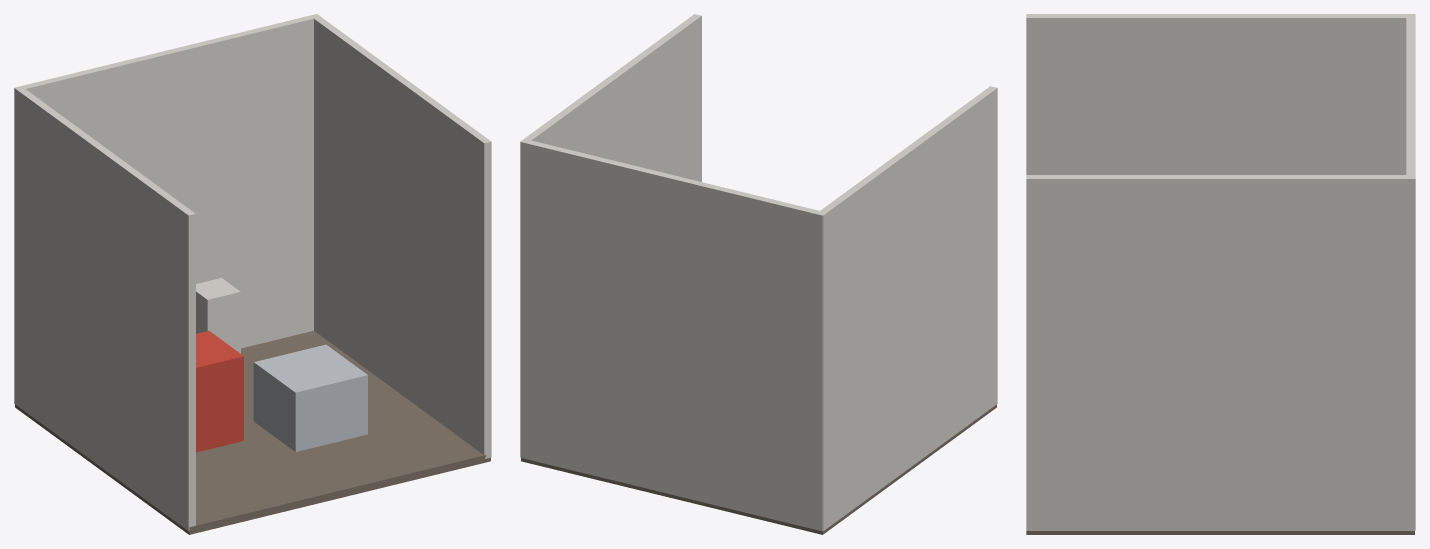
The model's file is c2_architectural_interior.gltf.
3 views of the same model, side by side, from view 1: azimuth 30°, elevation 25°; view 2: azimuth 150°, elevation 25°; view 3: azimuth 270°, elevation 25° (orthographic). The views are drawn at different scales.
Parts seen in each view (by area): view 1: Wall (×4), Floor, Metal, Red; view 2: Wall (×3), Floor; view 3: Wall (×3), Floor.
Part boxes in pixels (x1,y1,x2,y2): Wall (×4): [14, 14, 491, 531]; Floor: [15, 330, 490, 534]; Metal: [253, 344, 367, 451]; Red: [196, 331, 243, 452]; Wall (×3): [520, 14, 997, 531]; Floor: [521, 404, 996, 534]; Wall (×3): [1026, 14, 1415, 530]; Floor: [1026, 531, 1414, 534].
Bounding box in the file's own units: 10.04 × 10.12 × 10.02.
